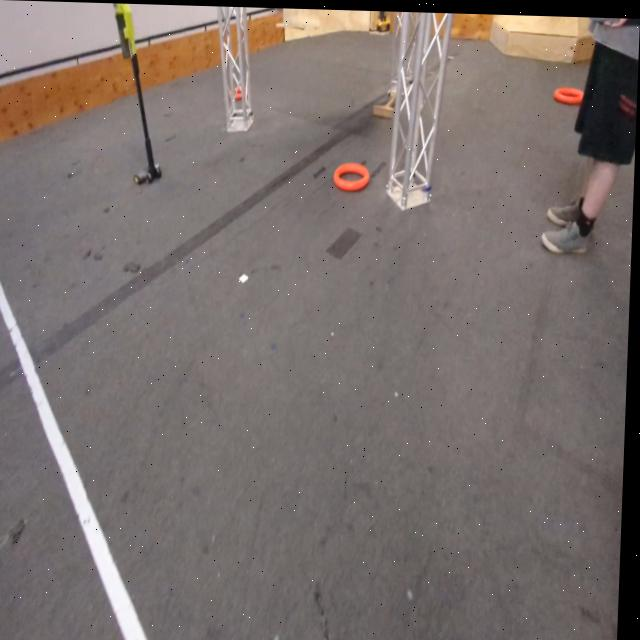note: (333, 160, 372, 191), (553, 83, 584, 102)
